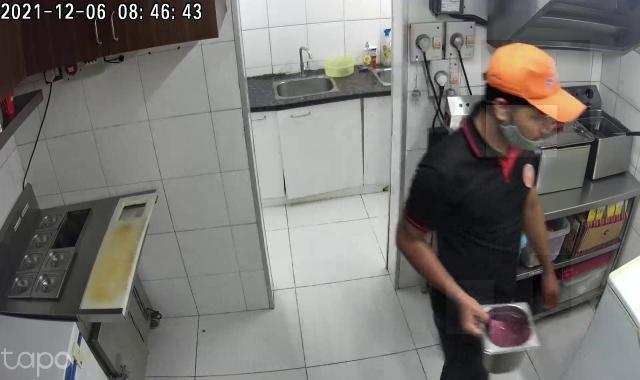gloves: (481, 40, 590, 133)
no_apron: (447, 280, 495, 334), (534, 255, 572, 318)
no_hairnet: (486, 106, 557, 158)
